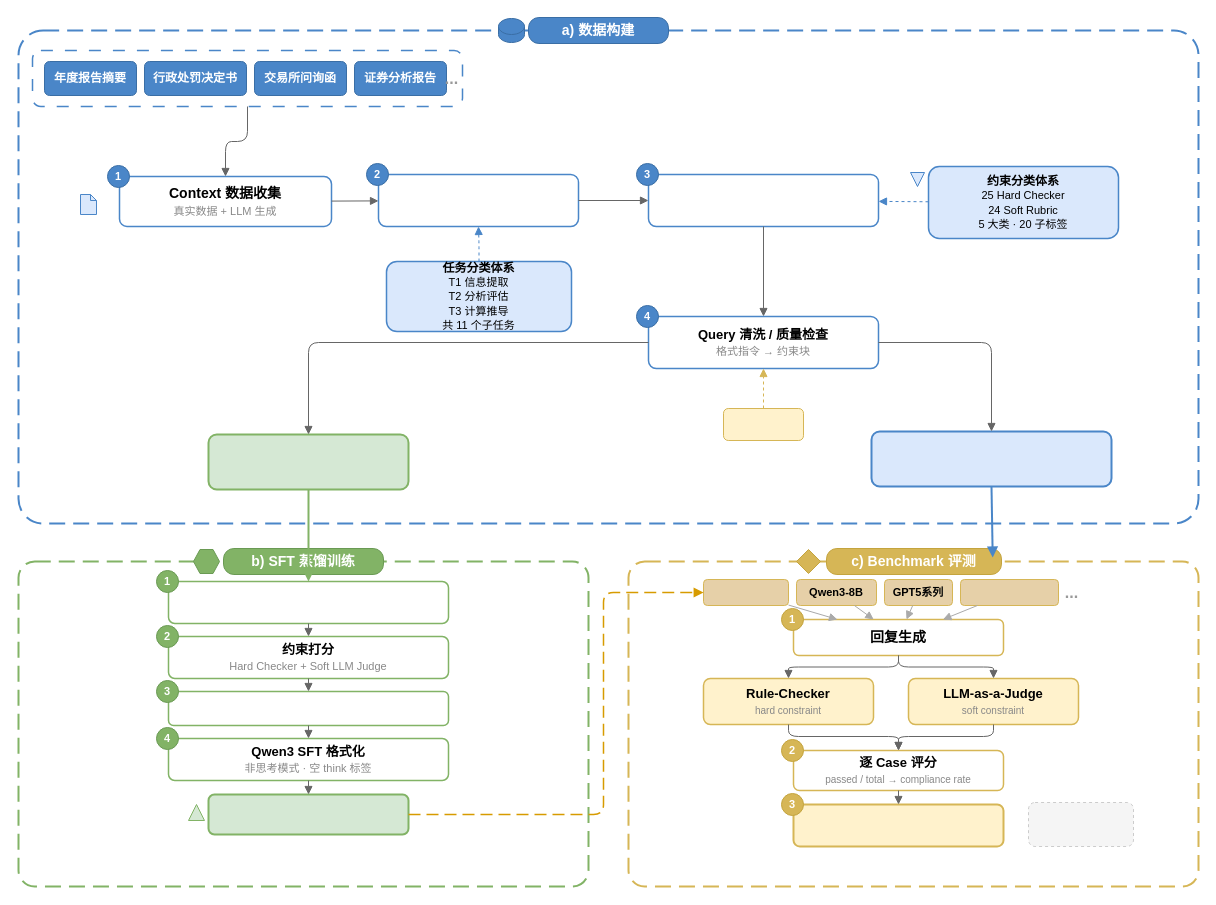
This 1216x905 diagram has some shape labels left out. Here are the shapes that lost their labels. From the top down, the centre of each, then its label:
At [478,200]: "Query 合成 LLM 生成 + 人工抽检".
At [763,200]: "约束采样 + Prompt 组装 1-5 条/case · 冲突检测".
At [763,424]: "GPT-5".
At [308,461]: "SFT 训练集 2134 prompts 1-5 约束/sample".
At [991,458]: "FinIF Benchmark 100 cases · 300 约束 (187 hard + 113 soft)".
At [308,602]: "Teacher 回复生成 GPT-5.4 · 1条/sample".
At [745,592]: "Qwen3-8B-sft".
At [1009,592]: "DeepSeek-V4系列".
At [308,708]: "多轮修复 (3轮自动 + 人工)".
At [308,814]: "Qwen3-8B (微调后)".
At [898,825]: "Tier 聚合 → 模型对比 T1 · T2 · T3 → Overall Score".
At [1081,824]: "GPT-5.4 88% GPT-5 77% Qwen3 62%".
